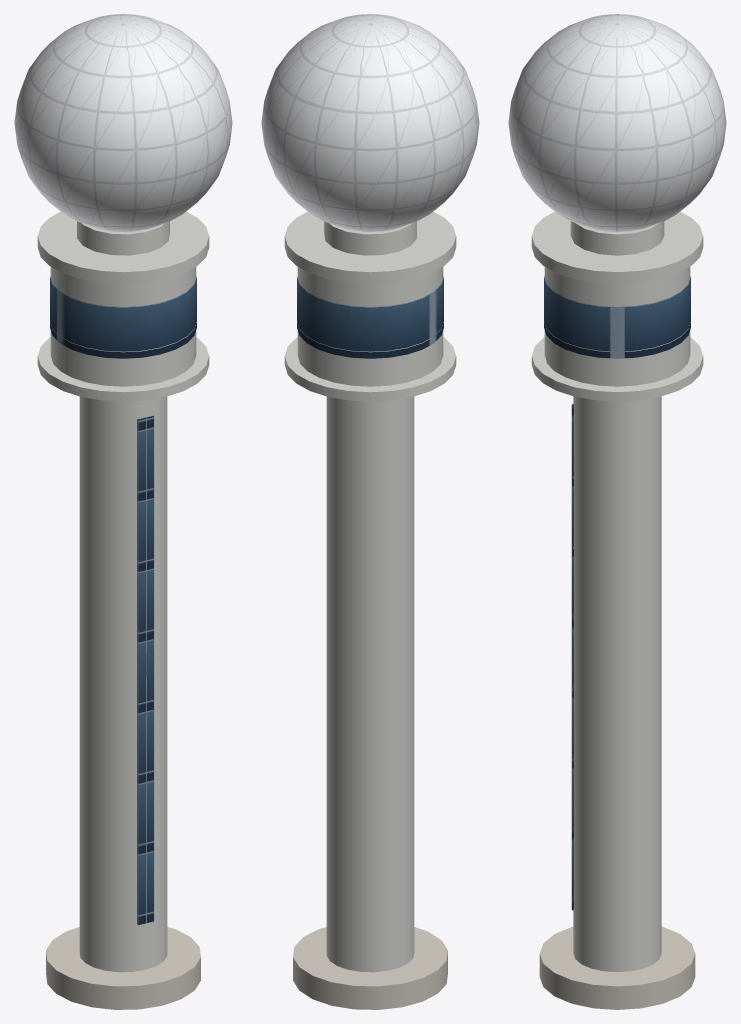
File: leidata.glb
3 views of the same model, side by side, from view 1: azimuth 30°, elevation 25°; view 2: azimuth 150°, elevation 25°; view 3: azimuth 270°, elevation 25° (orthographic).
Visible parts, largest first — view 1: 雷达塔; view 2: 雷达塔; view 3: 雷达塔.
Boxes of the visible parts, box(x1,y1,x2,y2) form: 雷达塔: box(14, 14, 232, 1009); 雷达塔: box(261, 14, 479, 1009); 雷达塔: box(508, 14, 726, 1009).
Bounding box in the file's own units: 8.4 × 40.5 × 8.4.
Materials: 4 (2 with a texture image).
